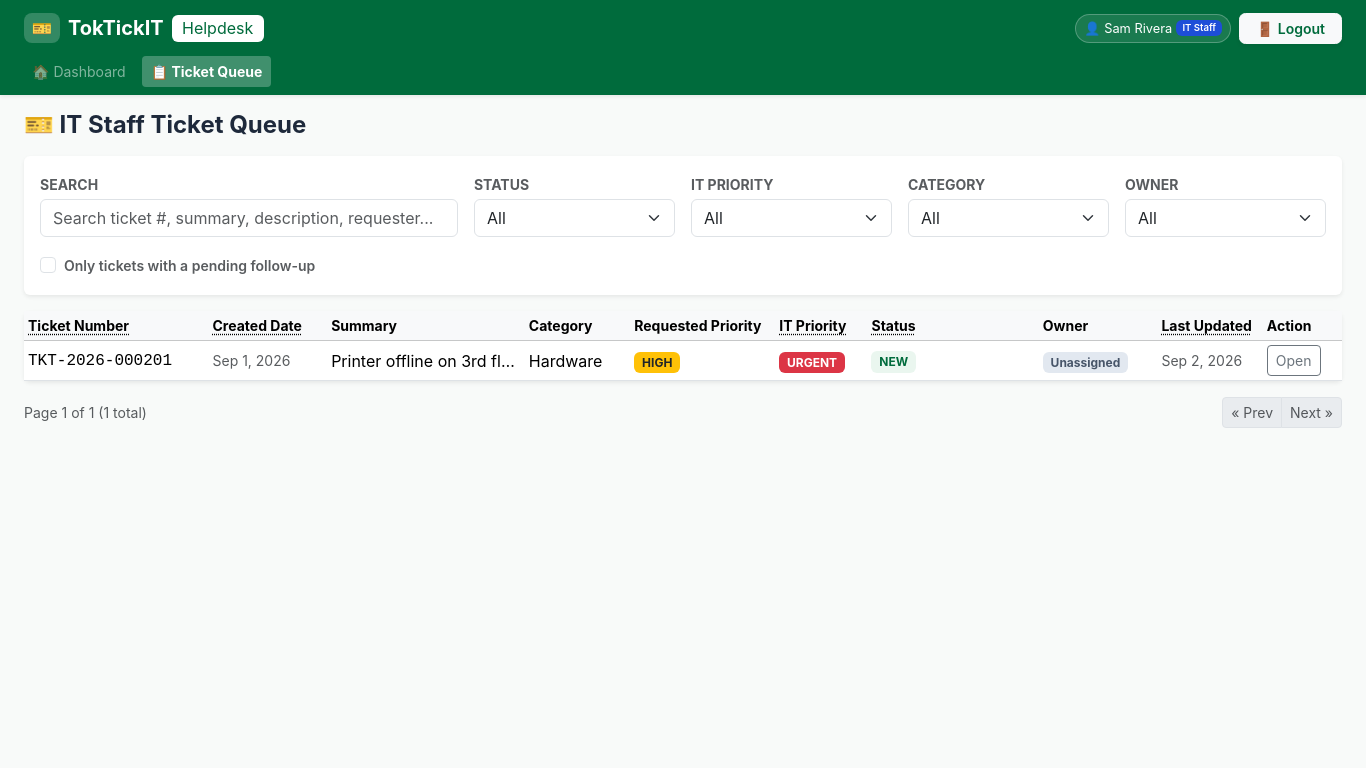
Test: IT Staff Ticket Queue (UI-03, UI-04, UI-05) › UI-03c: renders a no-results state with Clear Filters after searching to nothing
Expected: the text "TKT-2026-000201" is shown, [24,341,208,381]
Step 1. Type "nonexistent-xyz" into the field labelled "SEARCH" → (249, 218), box [40,199,458,237]
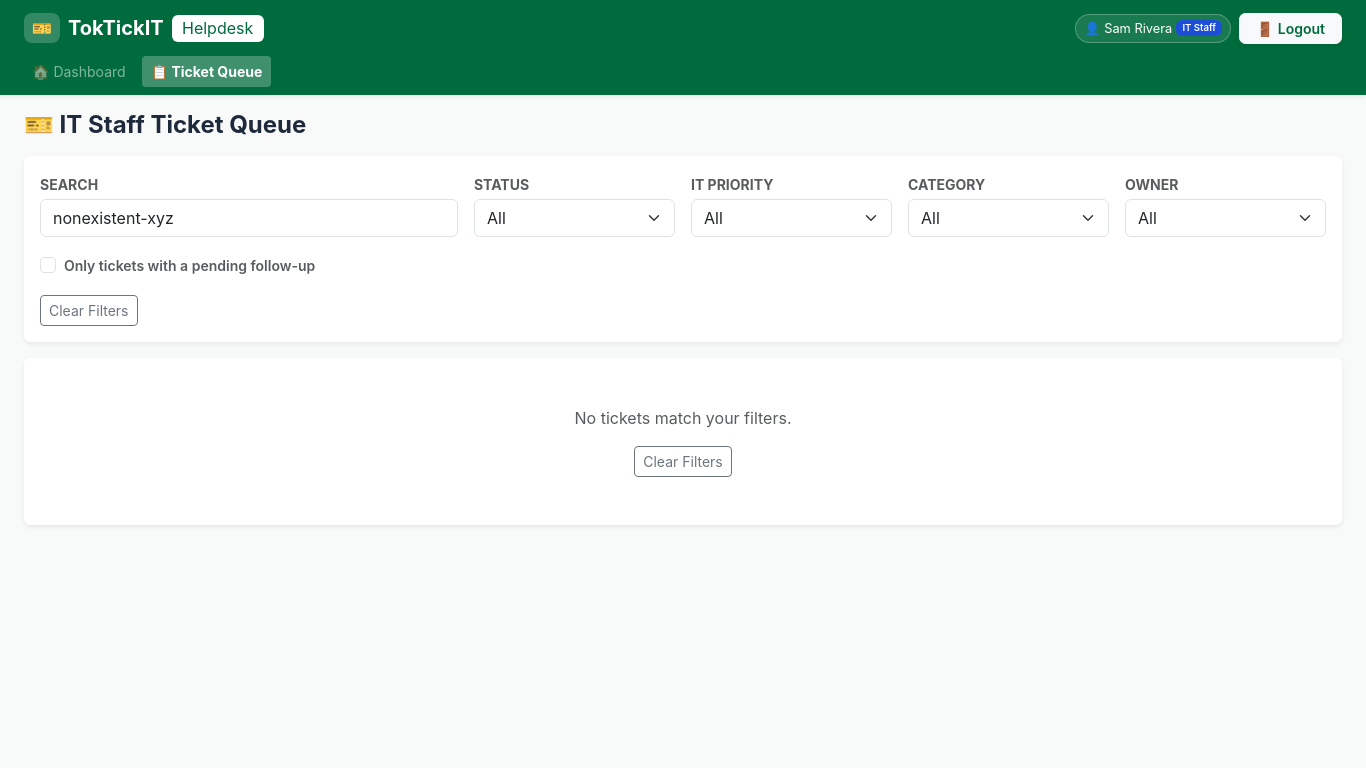
Now the text "No tickets match your filters." is shown, box [574,408,792,428]
Now the button "Clear Filters" below "Only tickets with a pending follow-up" is shown, box [40,295,138,326]
